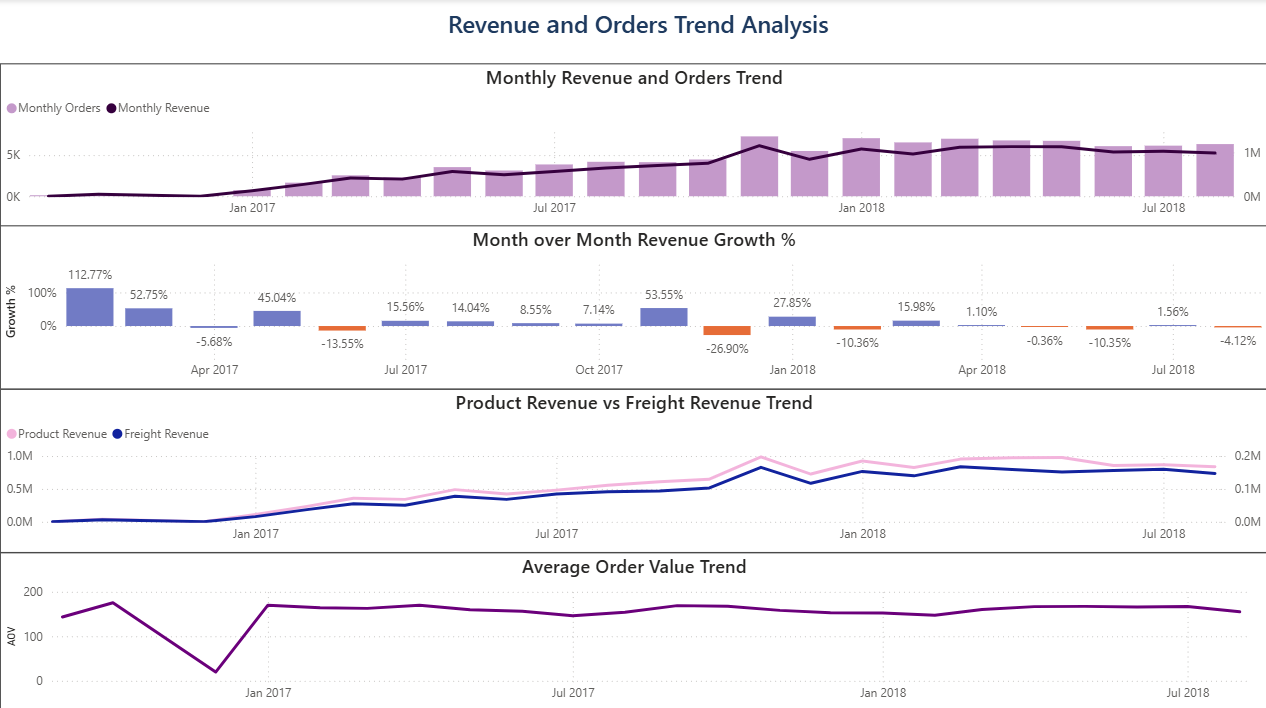

The page's visual inventory and layout, read from the dashboard file:
{"tool":"powerbi","page":{"name":" Revenue & Orders Trend","canvas":[1280,720],"ordinal":1},"visuals":[{"type":"textbox","box":[9.1,0,1270.4,65.1],"z":0},{"type":"lineClusteredColumnComboChart","title":"Monthly Revenue and Orders Trend","fields":{"Y":["monthly_sales.Monthly Orders"],"Category":["monthly_sales.order_month"],"Y2":["monthly_sales.Monthly Revenue"]},"box":[0,65.1,1279.5,165],"z":1000},{"type":"clusteredColumnChart","title":"Month over Month Revenue Growth %","fields":{"Y":["monthly_sales.MoM Revenue Growth %"],"Category":["monthly_sales.order_month"]},"box":[0,228.6,1279.5,165],"z":2000},{"type":"lineChart","title":"Product Revenue vs Freight Revenue Trend","fields":{"Y":["monthly_sales.Product Revenue"],"Y2":["monthly_sales.Freight Revenue"],"Category":["monthly_sales.order_month"]},"box":[0,393.7,1279.5,165],"z":3000},{"type":"lineChart","title":"Average Order Value Trend","fields":{"Y":["monthly_sales.AOV"],"Category":["monthly_sales.order_month"]},"box":[0,558.7,1279.5,160.5],"z":4000}]}

Visuals, with their boxes in screenshot pixels (x1, y1, x2, y2), scaled from the page's 1280x720 canvas onto the 1266x708 screenshot:
textbox: <region>9, 0, 1265, 64</region>
"Monthly Revenue and Orders Trend" lineClusteredColumnComboChart: <region>0, 64, 1265, 226</region>
"Month over Month Revenue Growth %" clusteredColumnChart: <region>0, 225, 1265, 387</region>
"Product Revenue vs Freight Revenue Trend" lineChart: <region>0, 387, 1265, 549</region>
"Average Order Value Trend" lineChart: <region>0, 549, 1265, 707</region>
